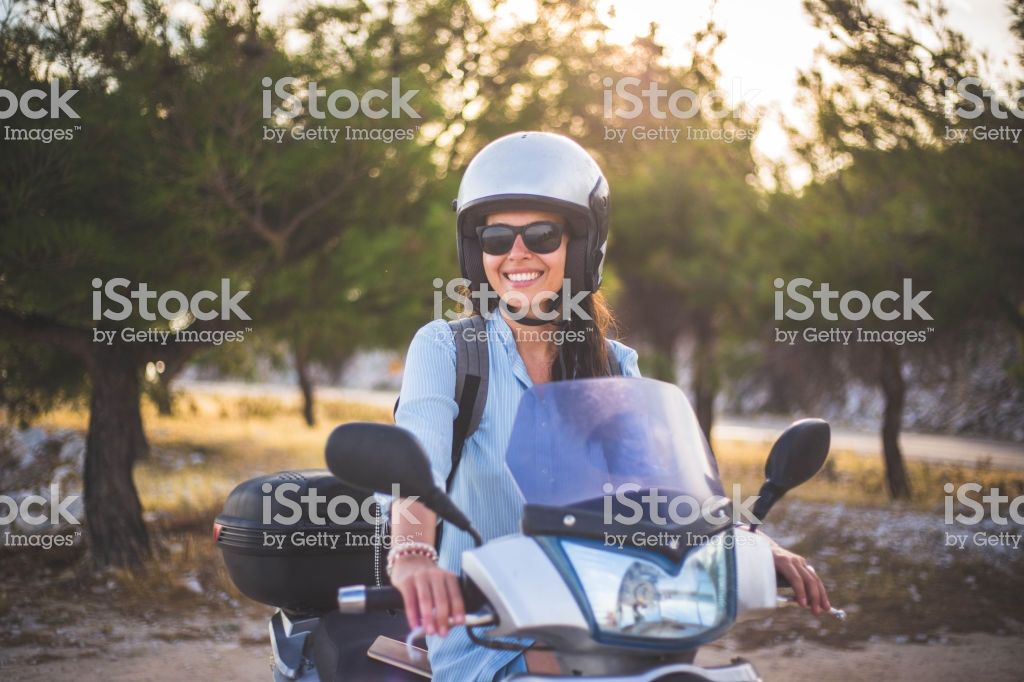helmet: (434, 128, 619, 287)
